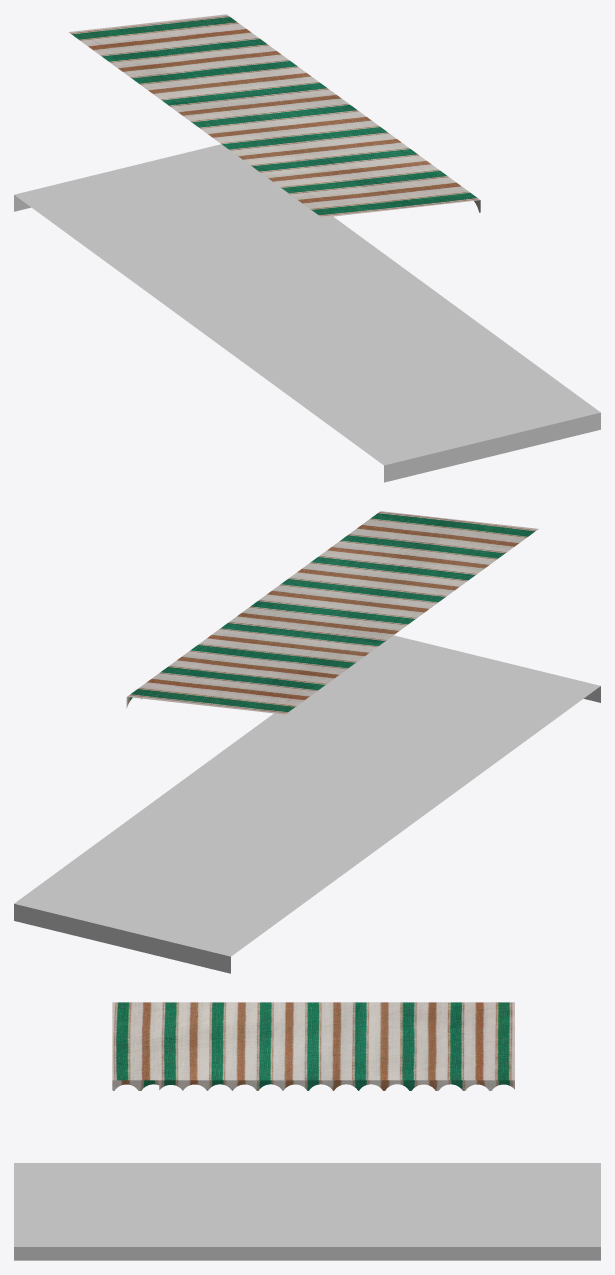
Rendered from canopy.fbx.
3 renders of one model, top to bottom at view 1: azimuth 30°, elevation 25°; view 2: azimuth 150°, elevation 25°; view 3: azimuth 270°, elevation 25°, orthographic. The views are drawn at different scales.
Parts seen in each view (by area): view 1: Cube.000; view 2: Cube.000; view 3: Cube.000.
Part boxes in pixels (x1=…): Cube.000: x1=14, y1=14, x2=600, y2=482; Cube.000: x1=14, y1=511, x2=600, y2=973; Cube.000: x1=14, y1=1002, x2=600, y2=1260.
Bounding box in the file's own units: 6.89 × 6.66 × 20.35.
